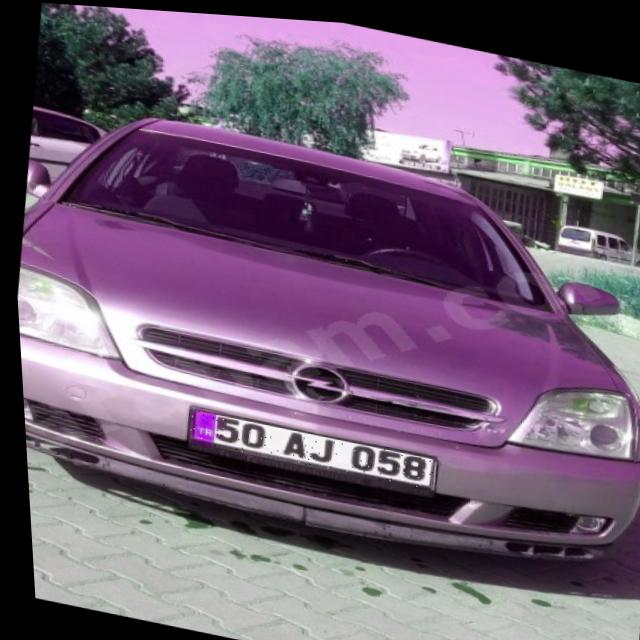license_plate: (183, 408, 430, 486)
